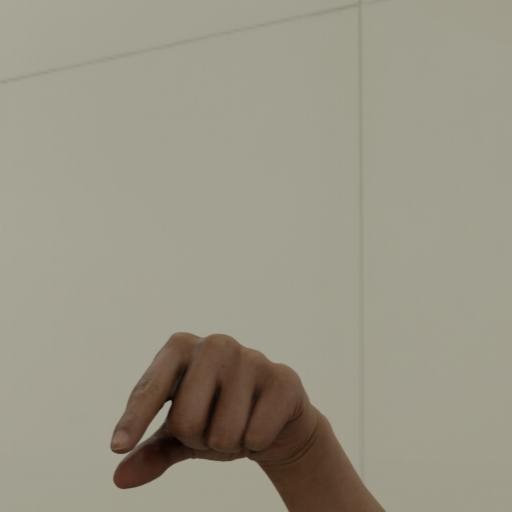Q: (104, 321, 366, 507)
